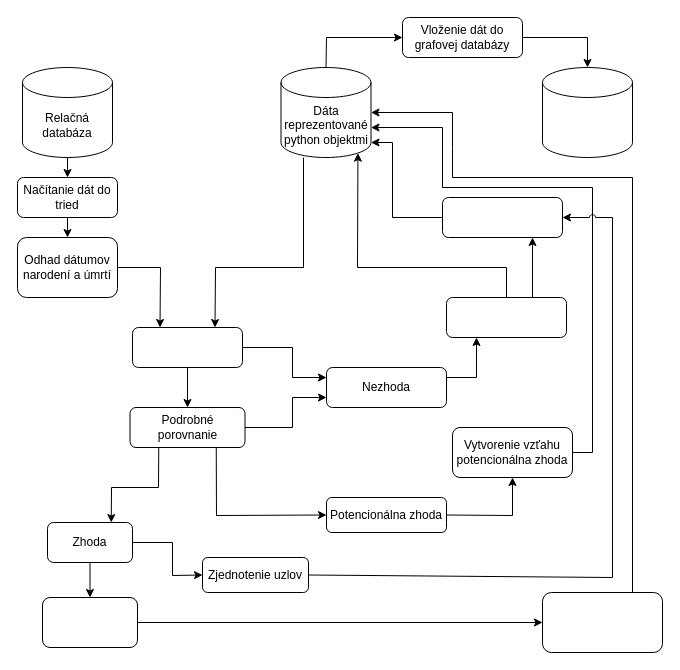
This 680x670 diagram has some shape labels left out. The centre of each missing label's shape, as x and y in pixels:
"Grafová databáza" belongs at point 587,112.
"Prehodnotenie potencionálnych zhod" belongs at point 90,622.
"Prepojenie uzlov" belongs at point 502,217.
"Vytvorenie nového uzla" belongs at point 506,317.
"Základné porovnanie" belongs at point 187,347.
"Úprava existujúcich potencionálnych prepojení" belongs at point 602,622.
